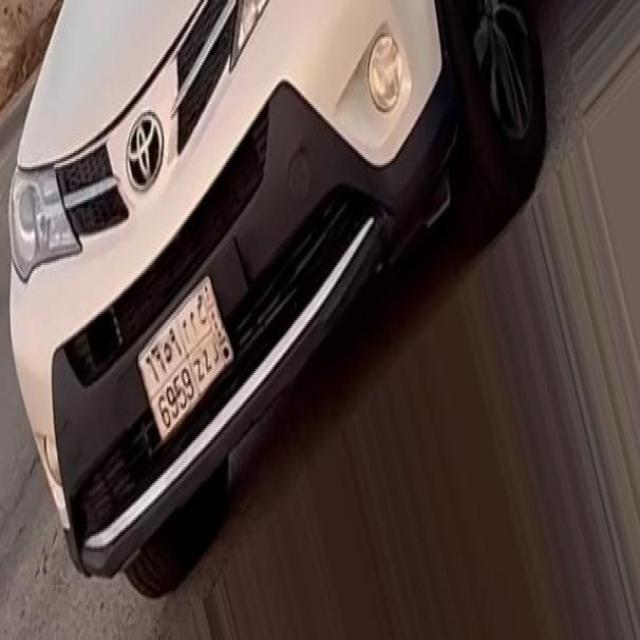Car-plate: (128, 251, 250, 463)
